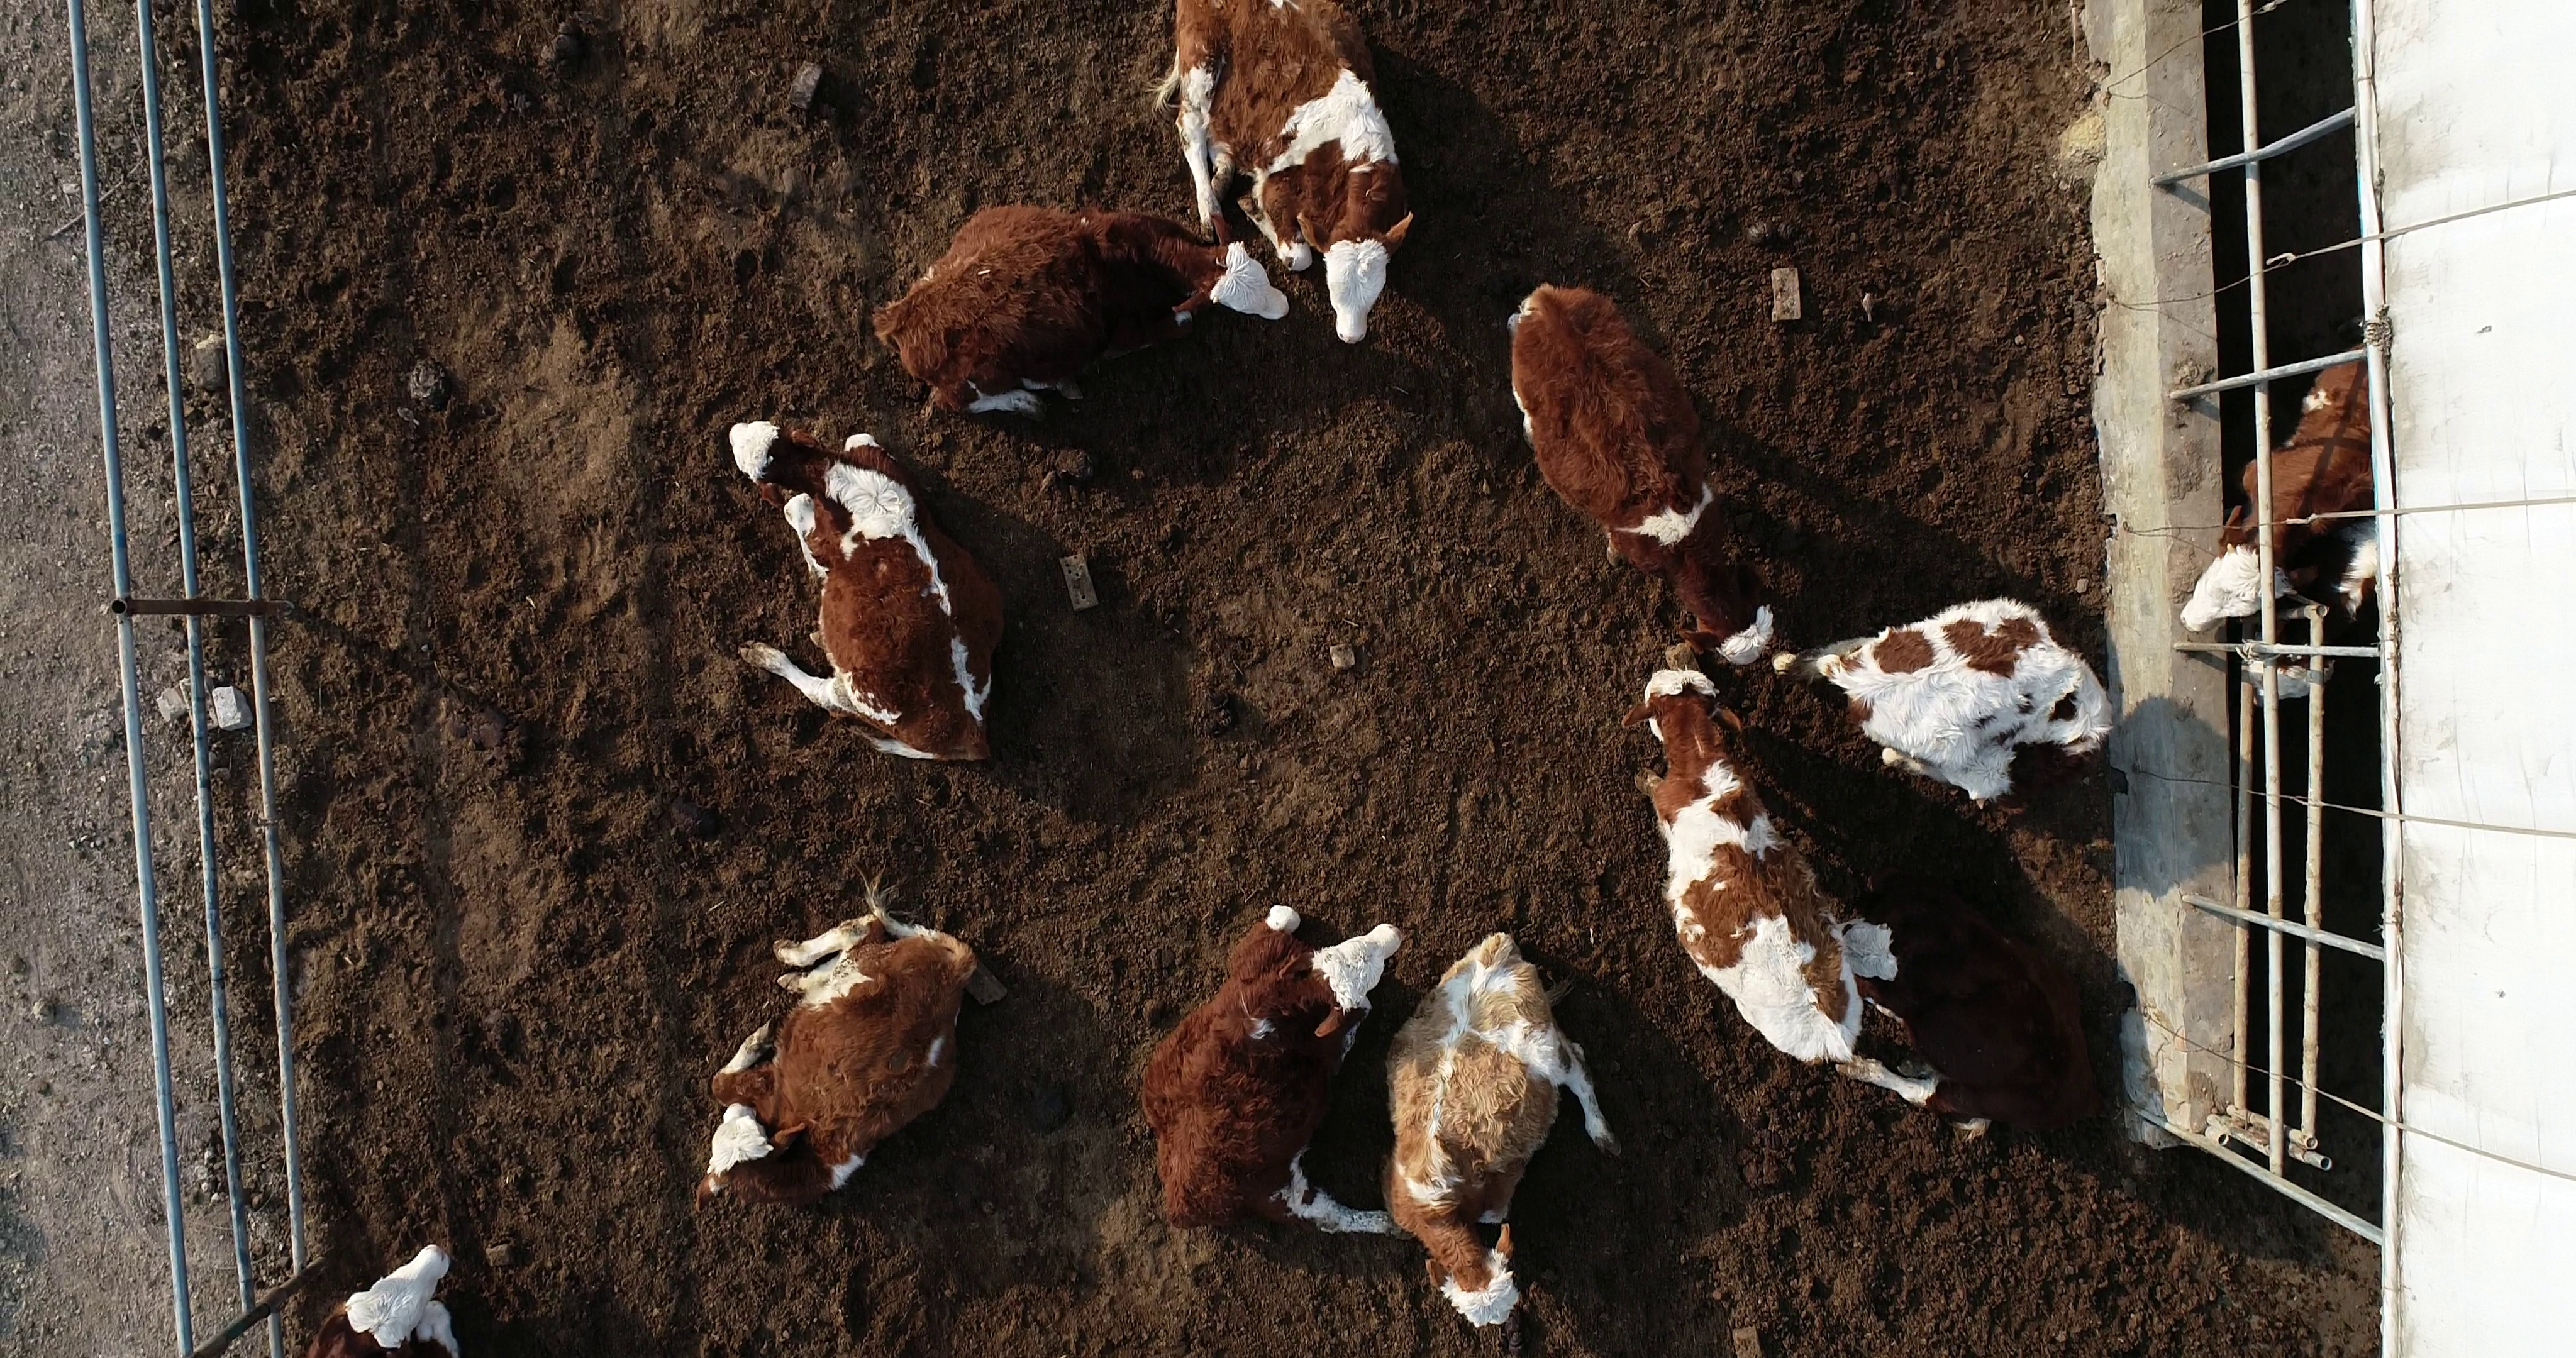cattle: (1501, 276, 1785, 668), (722, 412, 1014, 775), (1617, 665, 1872, 1072), (1375, 925, 1629, 1329), (862, 201, 1295, 423)
